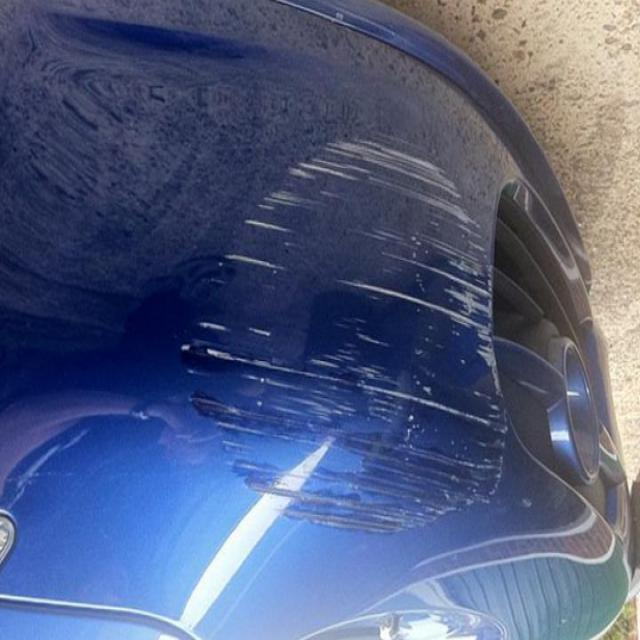scratch: (164, 120, 503, 550)
